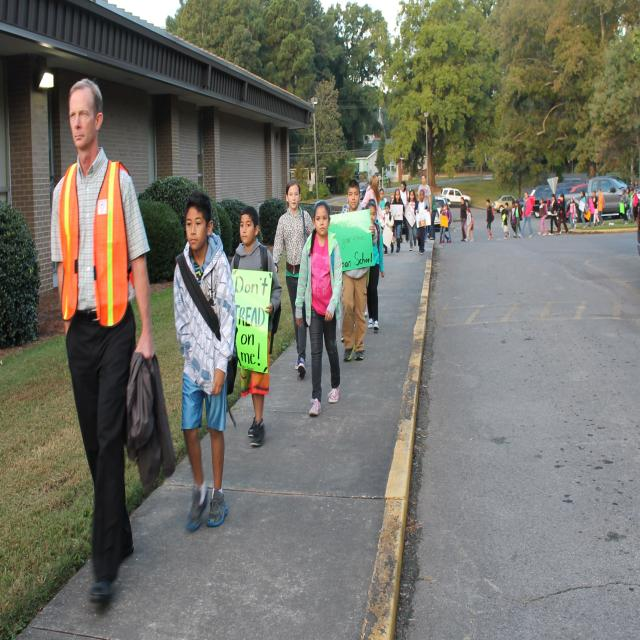body: (47, 74, 180, 612), (171, 186, 243, 536), (228, 205, 284, 448), (293, 198, 345, 419), (271, 178, 316, 381), (338, 178, 379, 362), (365, 198, 385, 332), (360, 174, 386, 225), (417, 174, 433, 244), (390, 186, 406, 254), (414, 188, 429, 256), (380, 200, 396, 257), (405, 188, 419, 252), (517, 190, 534, 240), (399, 180, 410, 244), (555, 192, 570, 236), (427, 185, 438, 241), (548, 193, 562, 236), (565, 195, 579, 232), (440, 202, 452, 244), (512, 198, 523, 239), (537, 197, 548, 237), (595, 188, 606, 228), (485, 199, 495, 240), (439, 205, 449, 244), (591, 190, 601, 228), (620, 188, 630, 226), (460, 197, 468, 242), (578, 190, 587, 229), (502, 202, 511, 240), (464, 208, 474, 242), (510, 199, 517, 238), (600, 178, 616, 195), (378, 188, 388, 215), (632, 188, 638, 224), (629, 188, 635, 223), (587, 205, 595, 228), (624, 187, 630, 210), (338, 328, 346, 343), (628, 178, 640, 187), (363, 303, 370, 318), (352, 322, 357, 336), (415, 227, 419, 243), (390, 195, 394, 205)
